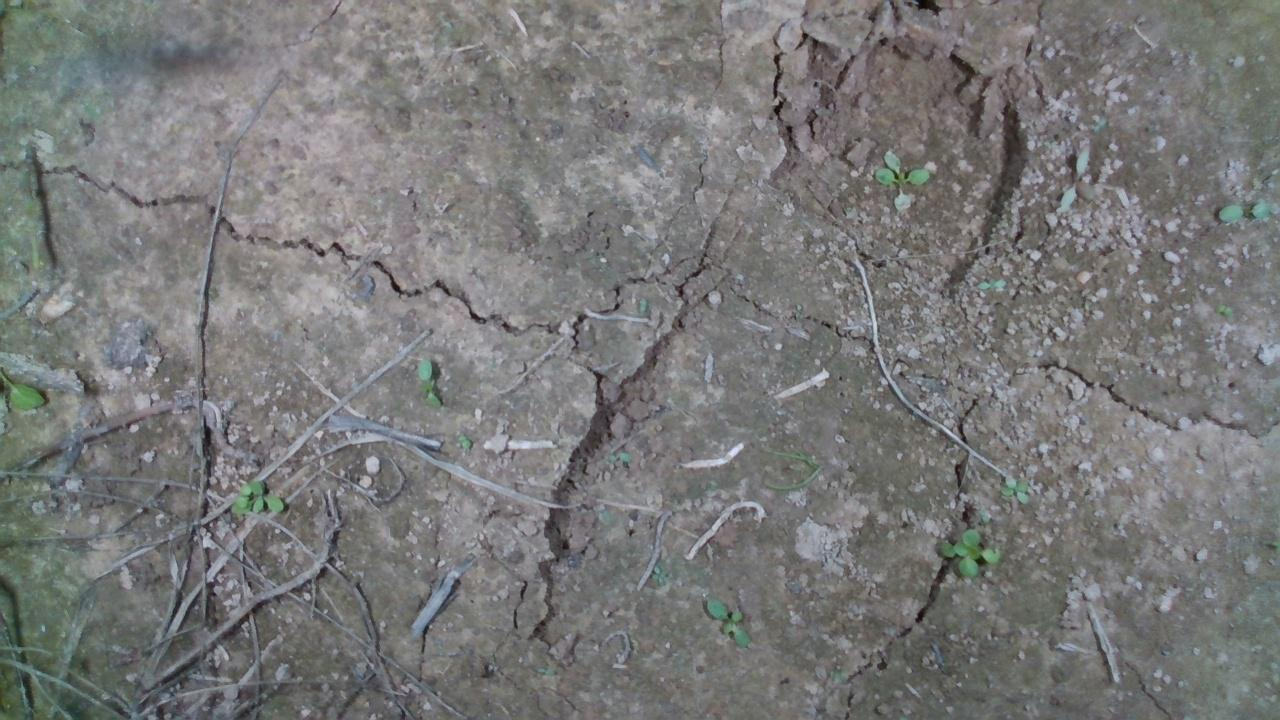weed: (871, 148, 930, 210), (704, 595, 750, 648), (415, 357, 441, 410), (1215, 198, 1272, 222), (997, 472, 1032, 504), (457, 431, 472, 450)
